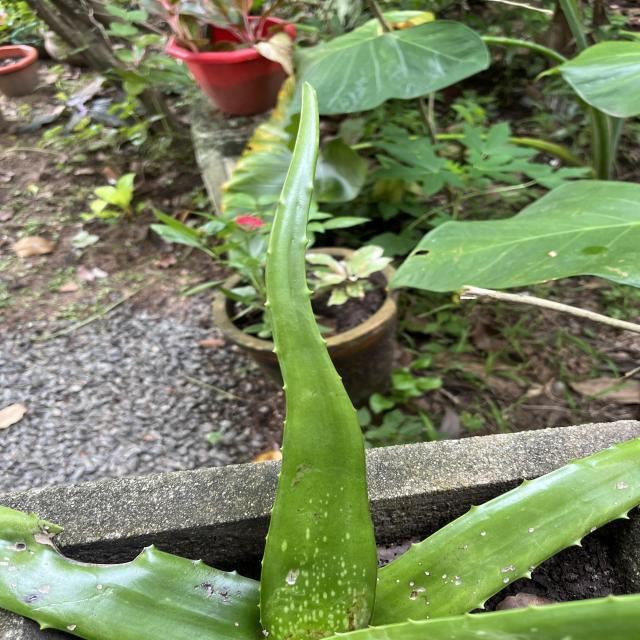Aloe vera: (246, 75, 387, 634)
